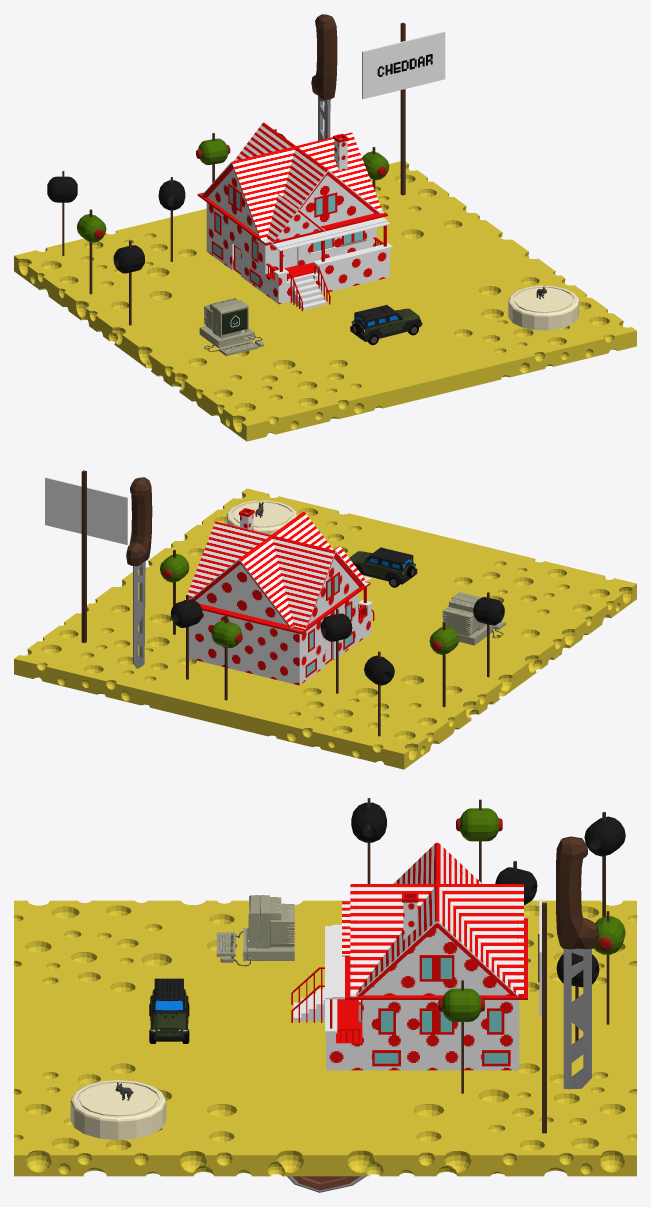
3 views of the same model, one above another, from view 1: azimuth 30°, elevation 25°; view 2: azimuth 150°, elevation 25°; view 3: azimuth 270°, elevation 25° (orthographic). The views are drawn at different scales.
Visible parts, largest first — view 1: Cube.022, Cube.196, Cube.023, Cylinder.016, OBJRANDOM_RETRO_PC, Cube.024, VEHICLES_JEEP, Sphere.016, Sphere.017, Sphere.018, Sphere.020, Sphere.022 (+1 smaller); view 2: Cube.022, Cube.196, Cube.023, Cube.024, VEHICLES_JEEP, OBJRANDOM_RETRO_PC, Cylinder.016, Sphere.022, Sphere.017, Sphere.020, Sphere.021, Sphere.018 (+2 smaller); view 3: Cube.022, Cube.196, Cube.024, Cylinder.016, OBJRANDOM_RETRO_PC, VEHICLES_JEEP, Cube.023, Sphere.019, Sphere.016, Sphere.018, Sphere.017, Sphere.022 (+3 smaller).
Boxes of the visible parts, x1,y1,x2,y2 form: Cube.022: [14, 161, 636, 441]; Cube.196: [197, 122, 392, 311]; Cube.023: [362, 22, 445, 195]; Cylinder.016: [508, 285, 579, 330]; OBJRANDOM_RETRO_PC: [199, 298, 264, 356]; Cube.024: [311, 14, 337, 140]; VEHICLES_JEEP: [350, 305, 422, 345]; Sphere.016: [47, 171, 77, 255]; Sphere.017: [113, 240, 144, 325]; Sphere.018: [76, 209, 106, 294]; Sphere.020: [158, 177, 185, 261]; Sphere.022: [196, 133, 230, 182]; Cube.022: [14, 488, 636, 769]; Cube.196: [183, 508, 374, 685]; Cube.023: [45, 470, 127, 642]; Cube.024: [126, 477, 152, 668]; VEHICLES_JEEP: [349, 547, 417, 587]; OBJRANDOM_RETRO_PC: [442, 592, 505, 645]; Cylinder.016: [226, 500, 296, 534]; Sphere.022: [211, 615, 242, 700]; Sphere.017: [473, 592, 504, 677]; Sphere.020: [320, 609, 352, 693]; Sphere.021: [170, 594, 202, 679]; Sphere.018: [429, 622, 458, 707]; Cube.022: [14, 900, 636, 1176]; Cube.196: [291, 842, 527, 1070]; Cube.024: [556, 836, 599, 1089]; Cylinder.016: [70, 1080, 166, 1140]; OBJRANDOM_RETRO_PC: [216, 895, 294, 966]; VEHICLES_JEEP: [149, 978, 189, 1043]; Cube.023: [538, 898, 546, 1133]; Sphere.019: [438, 980, 484, 1093]; Sphere.016: [584, 812, 625, 917]; Sphere.018: [456, 799, 502, 882]; Sphere.017: [351, 798, 386, 883]; Sphere.022: [594, 911, 625, 1024].
Size of the model in its own units: 3917 by 2723 by 4000.
Materials: 38 (4 with a texture image).
